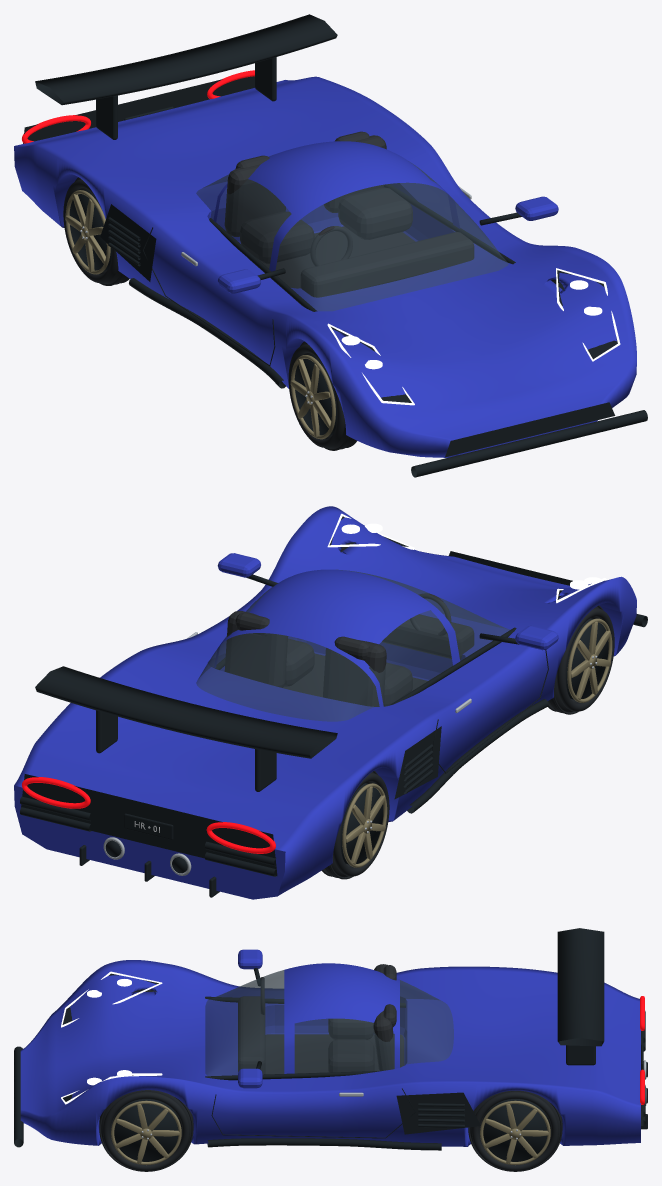
The model's file is hypercar.glb.
The picture shows the model from 3 angles, top to bottom: view 1: azimuth 30°, elevation 25°; view 2: azimuth 150°, elevation 25°; view 3: azimuth 270°, elevation 25°; orthographic projection. The views are drawn at different scales.
Visible parts, largest first — view 1: Body surfaces, WheelFrontR surfaces, WheelRearR surfaces; view 2: Body surfaces, WheelFrontR surfaces, WheelRearR surfaces; view 3: Body surfaces, WheelFrontL surfaces, WheelRearL surfaces.
Part boxes in pixels (left/top/right/bottom): Body surfaces: left=14, top=14, right=647, bottom=477; WheelFrontR surfaces: left=288, top=341, right=356, bottom=450; WheelRearR surfaces: left=63, top=177, right=129, bottom=285; Body surfaces: left=14, top=506, right=647, bottom=899; WheelFrontR surfaces: left=548, top=605, right=614, bottom=714; WheelRearR surfaces: left=321, top=770, right=389, bottom=879; Body surfaces: left=14, top=928, right=647, bottom=1150; WheelFrontL surfaces: left=99, top=1090, right=193, bottom=1171; WheelRearL surfaces: left=468, top=1090, right=562, bottom=1171.
Bounding box in the file's own units: 2.29 × 1.17 × 4.64.
